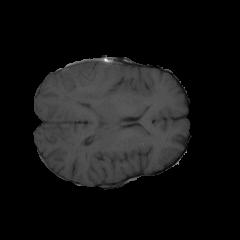glioma: (67, 58, 114, 104)
